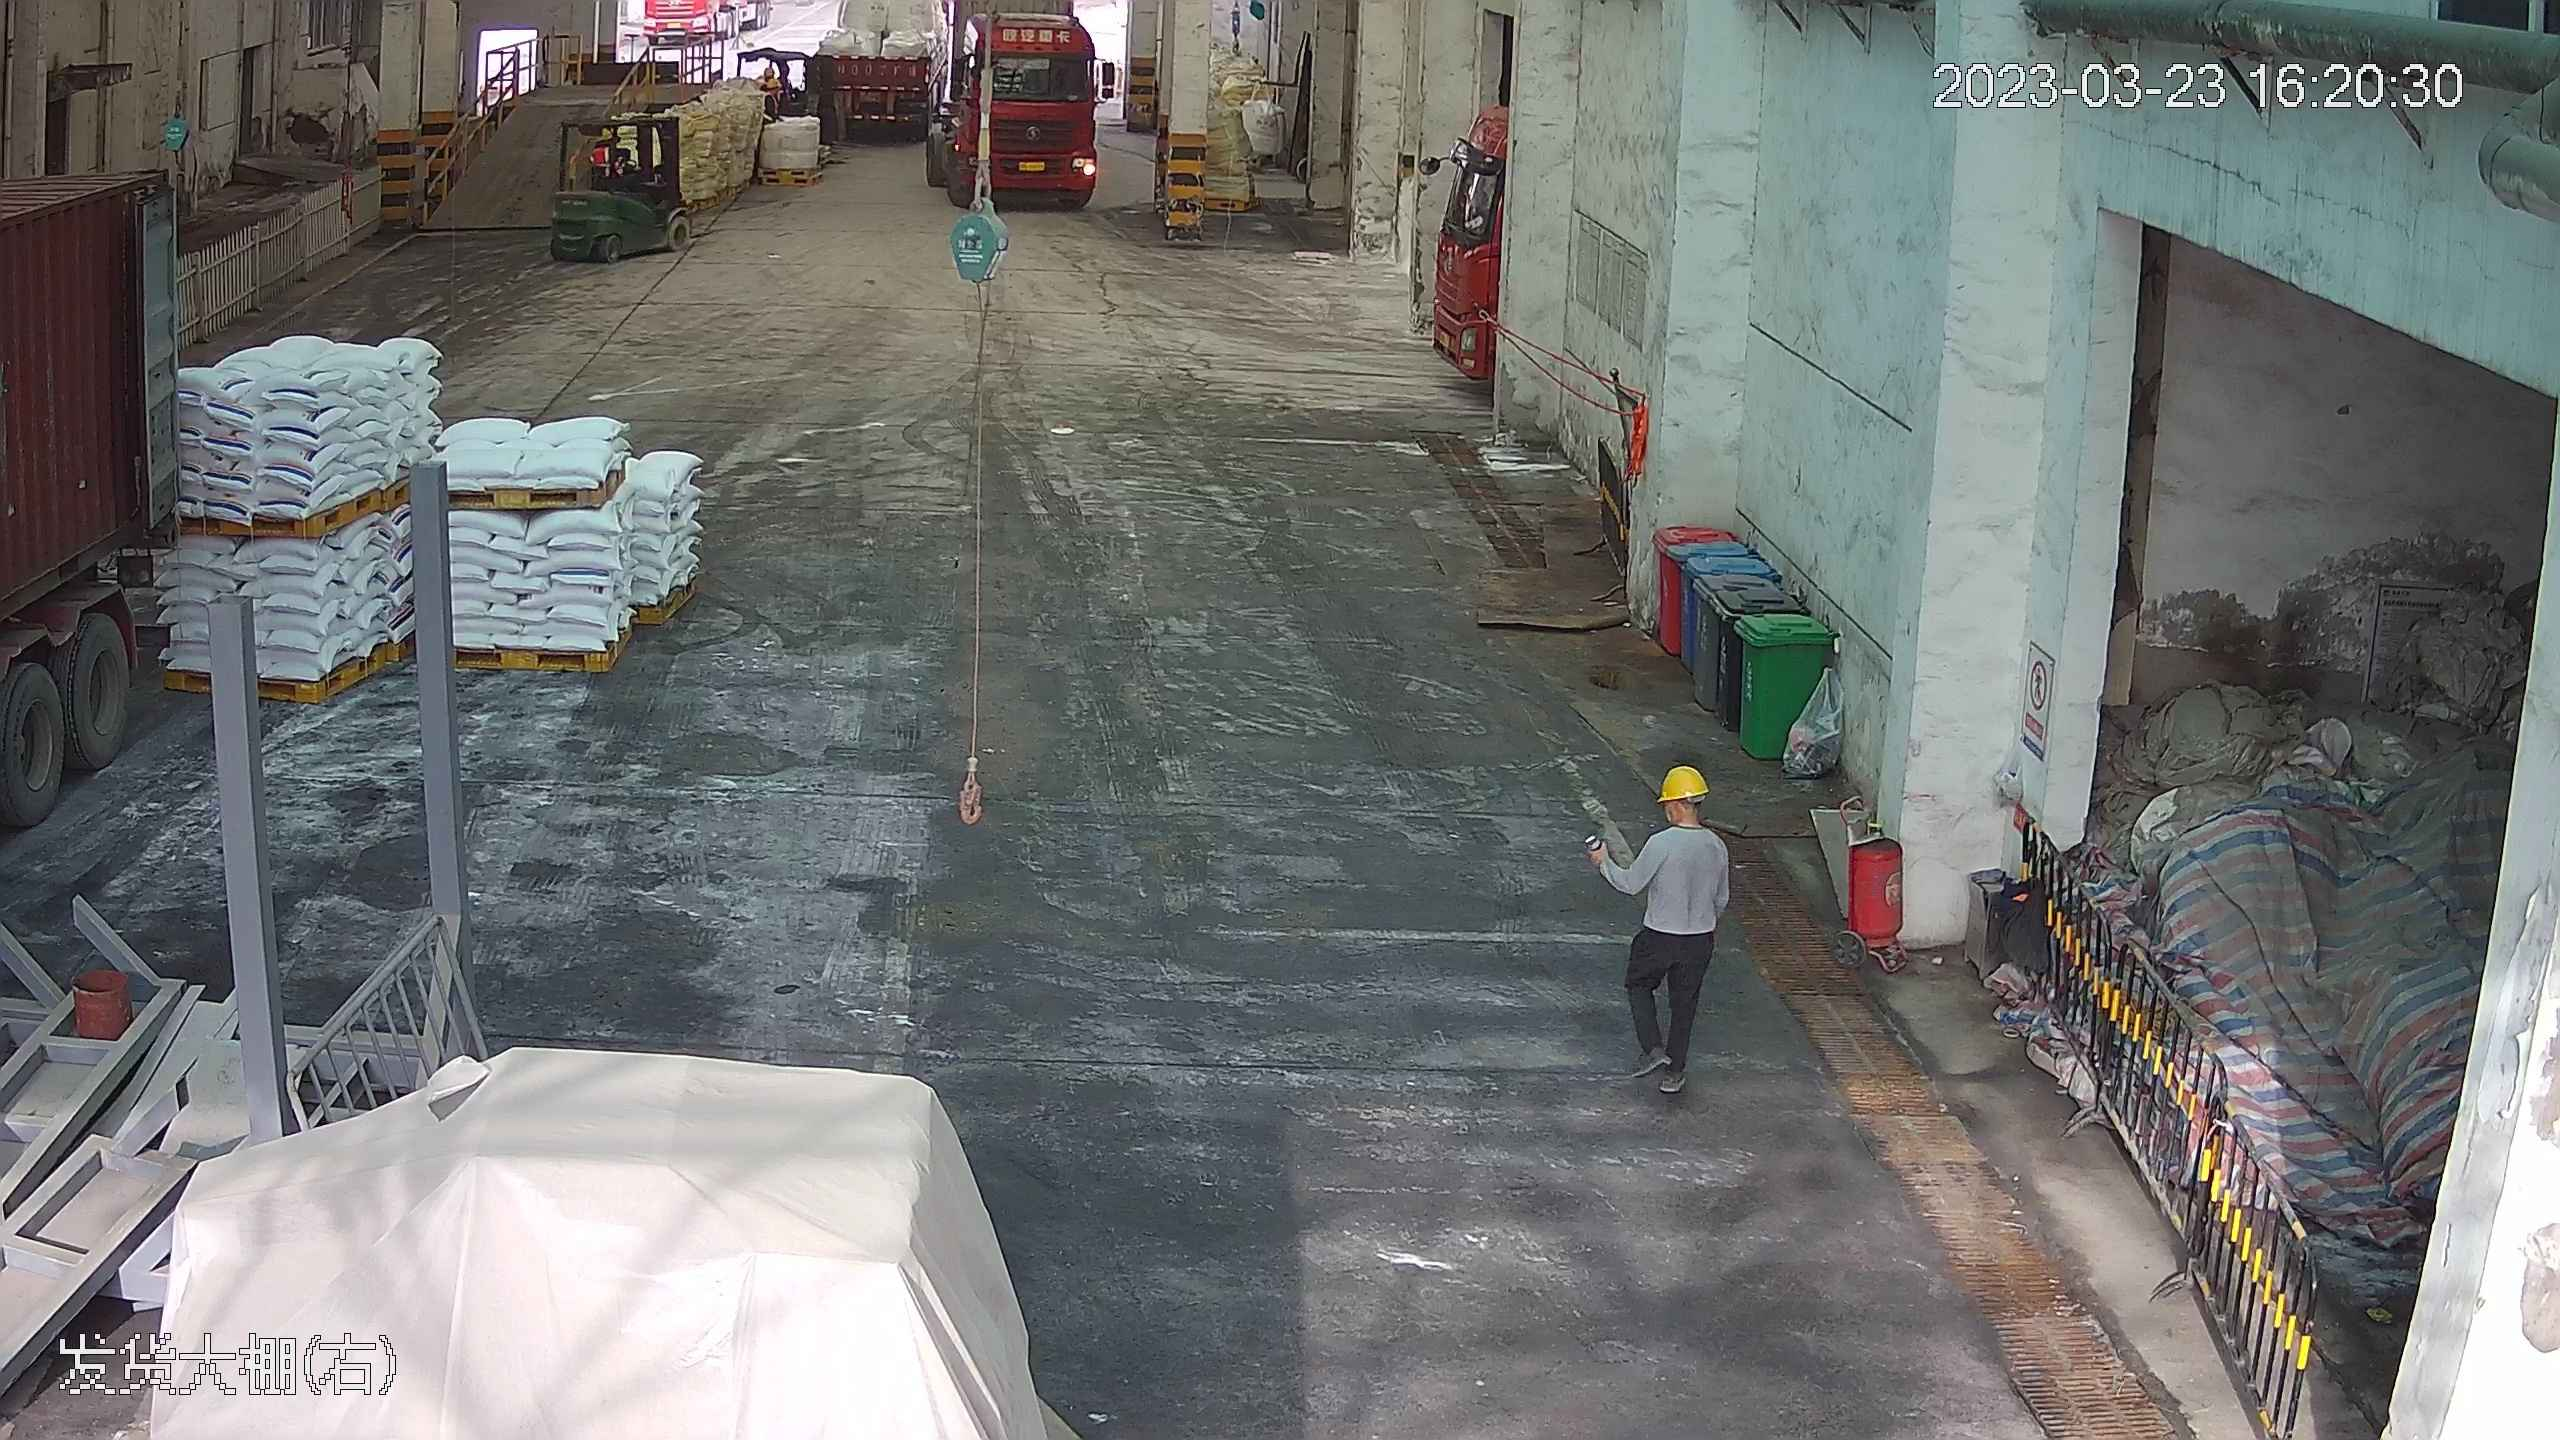head: (1635, 762, 1726, 872)
helmet: (1657, 763, 1711, 803)
people: (1605, 761, 1729, 1101)
truck: (1, 1, 213, 1283), (946, 7, 1116, 203)
